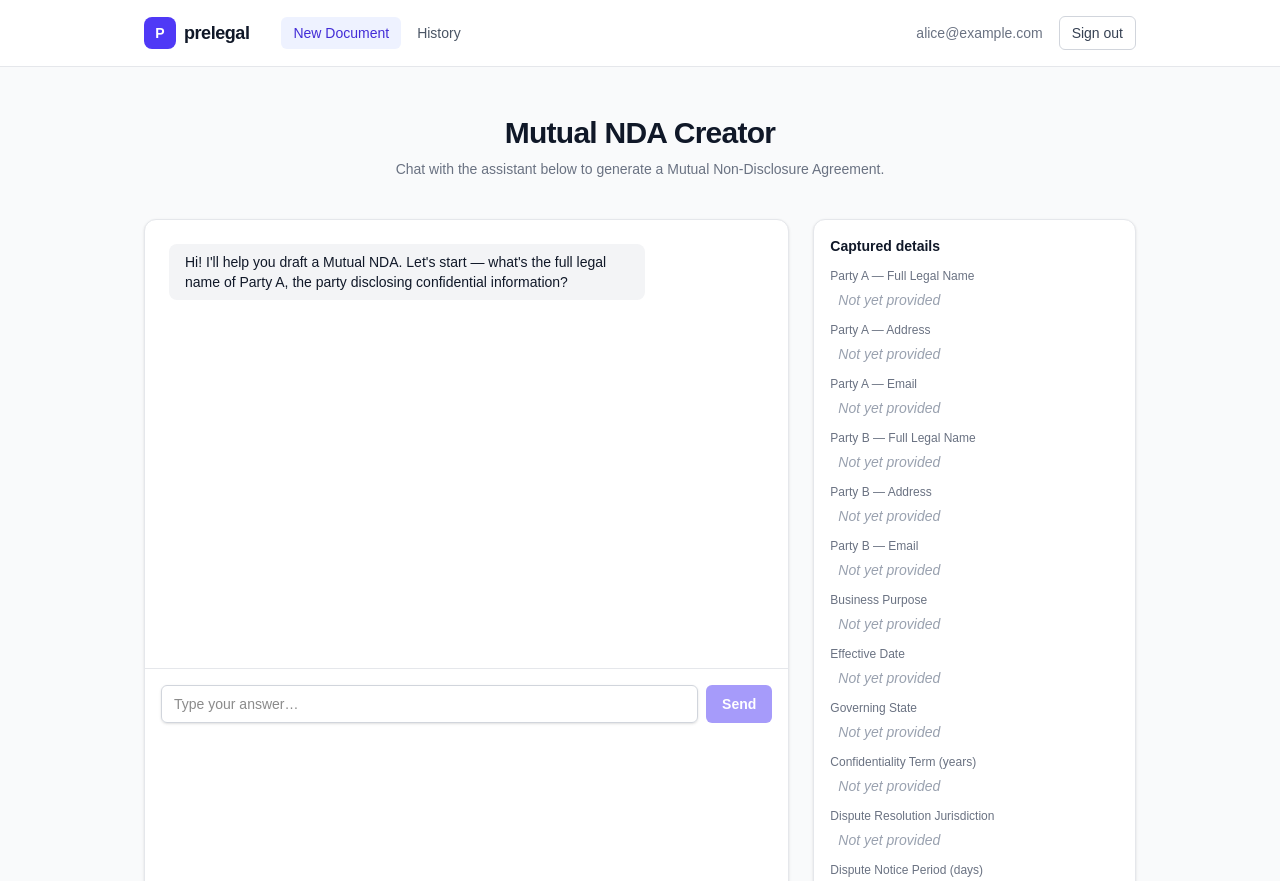
Test case: PlatformShell › switches to the History view and shows the empty state
This screenshot has width=1280, height=881.
Expected: the text "alice@example.com" is shown, x1=916 y1=23 x2=1043 y2=43
Click the button "History": click(439, 33) x1=405 y1=17 x2=473 y2=49
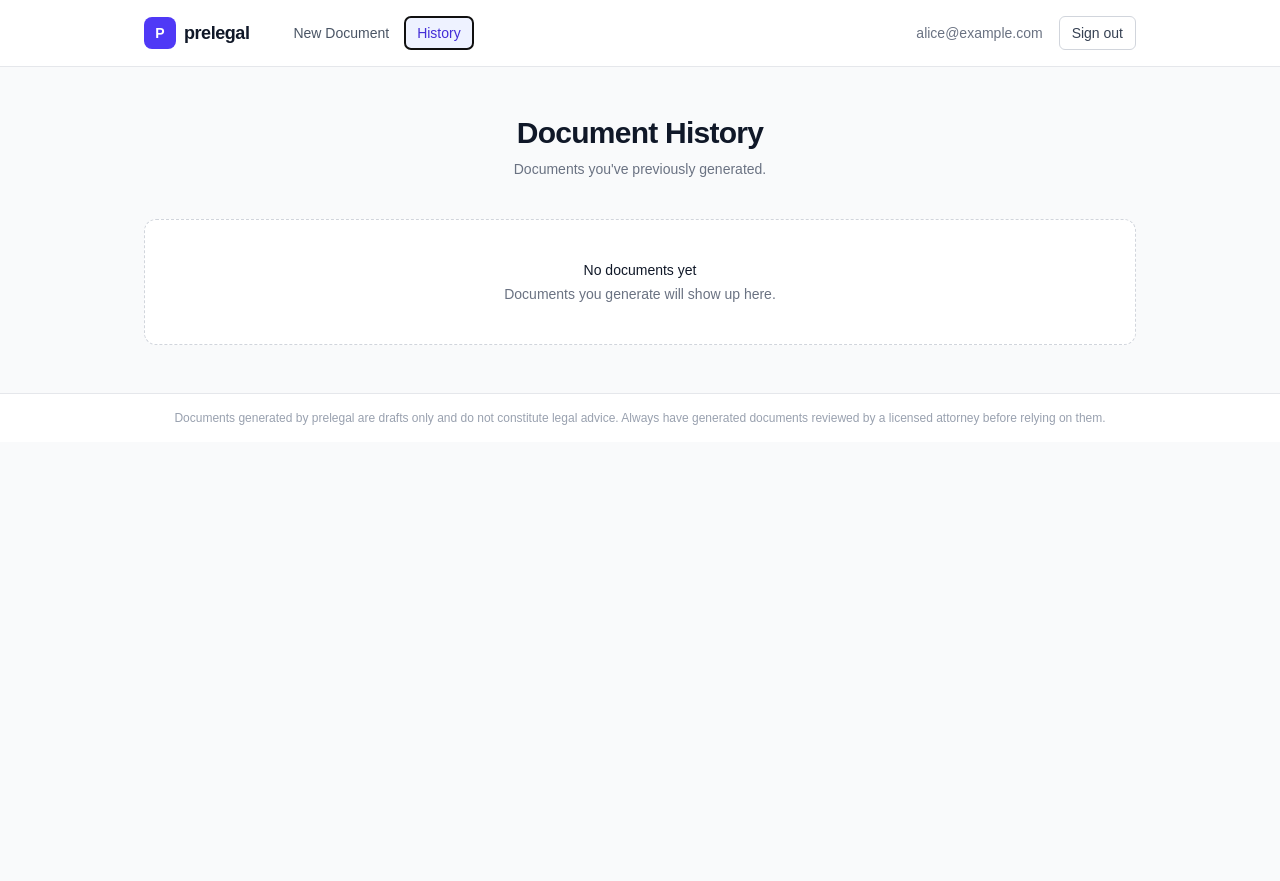
Expected: the text "No documents yet" is shown, x1=584 y1=262 x2=696 y2=278
